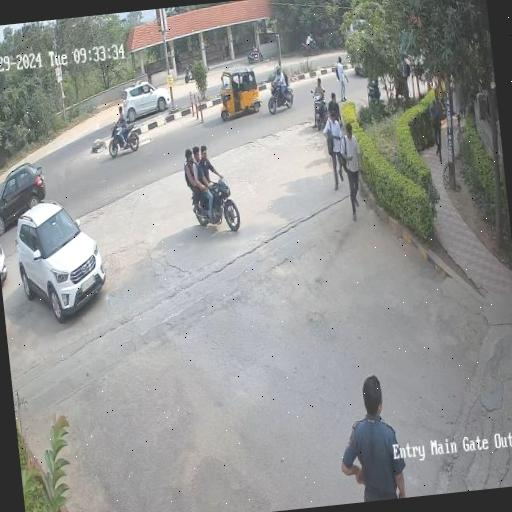no helmet: (112, 100, 130, 128), (312, 70, 331, 96), (199, 142, 212, 165)
triple riding: (180, 138, 243, 238)
